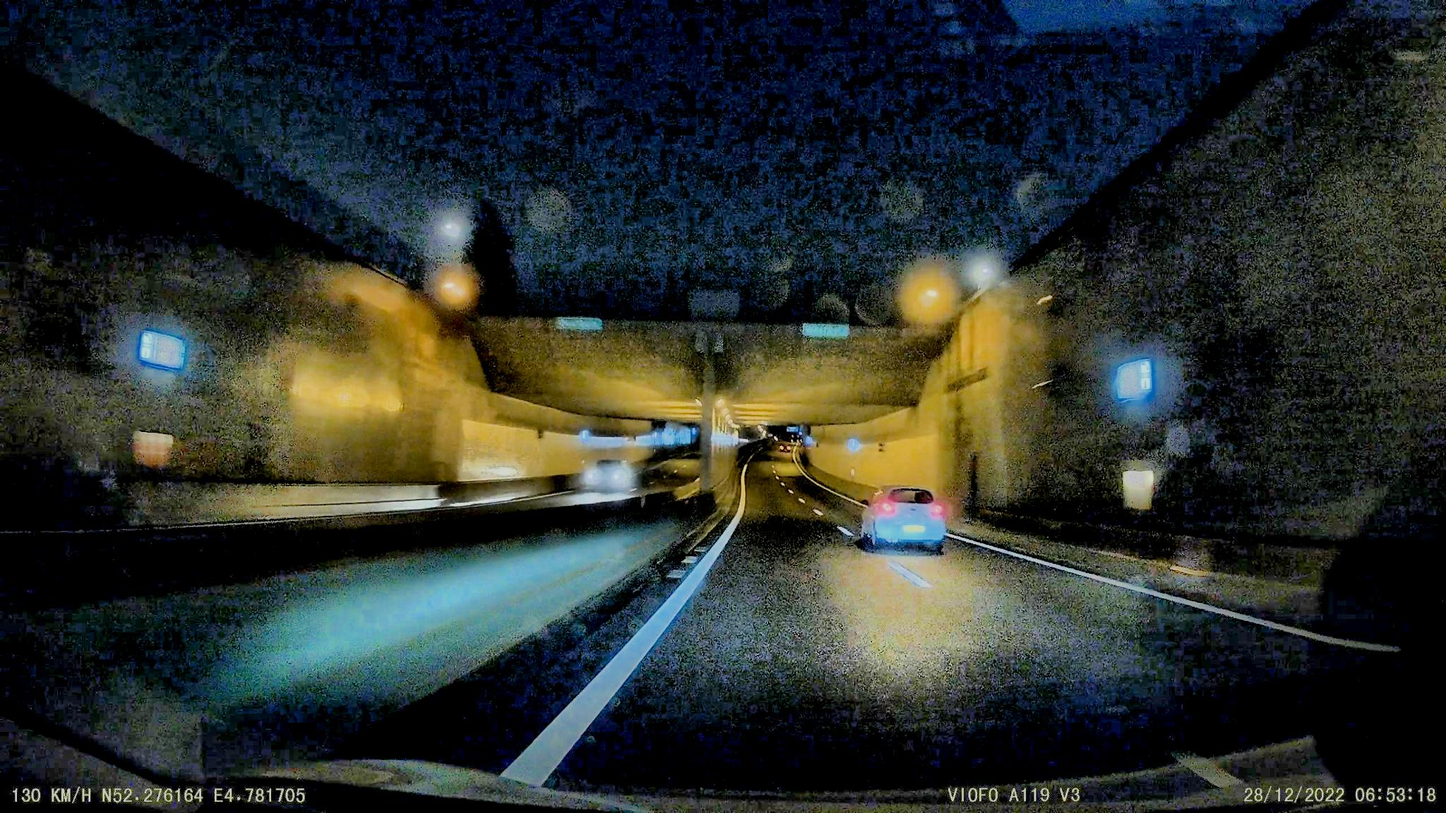Roads: (440, 445, 1446, 813)
